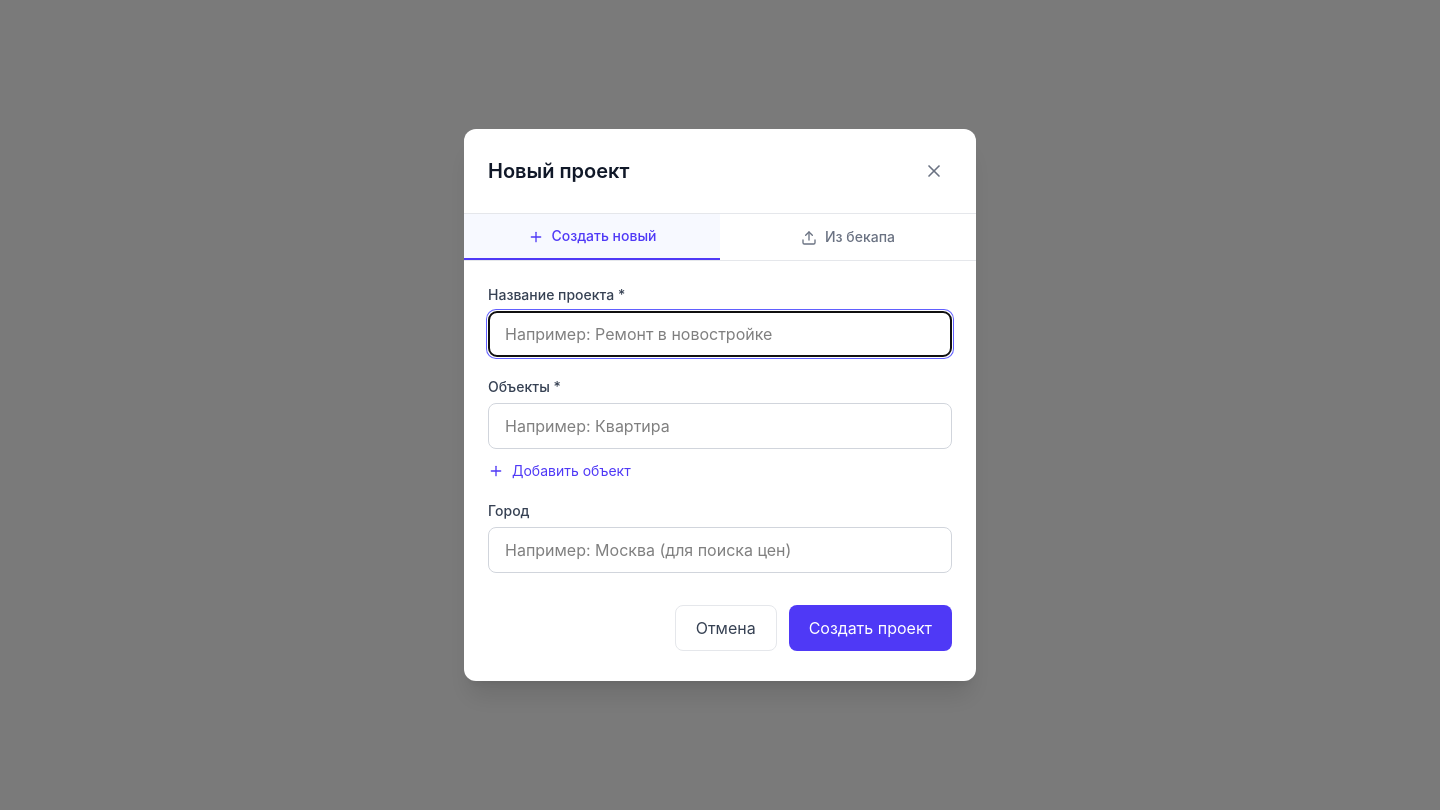
Scenario: CreateProjectModal › create new project tab › should add object field when "Добавить объект" clicked
Click the button "Добавить объект".
click(559, 471)  # box 488,461 -> 631,481
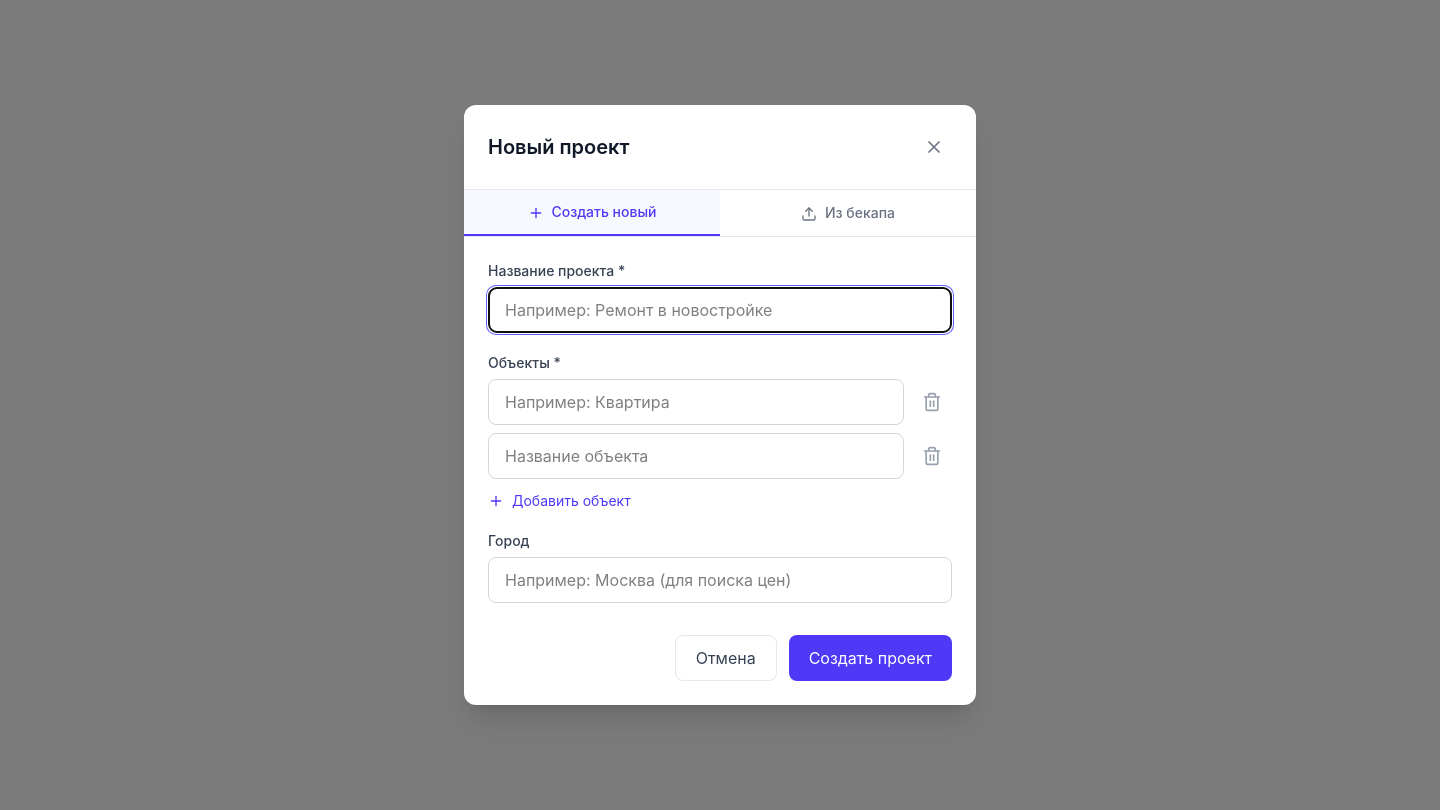
Expected: the number of fields with placeholder "Например: Квартира" is 2, 488,379 -> 904,425; 488,433 -> 904,479
